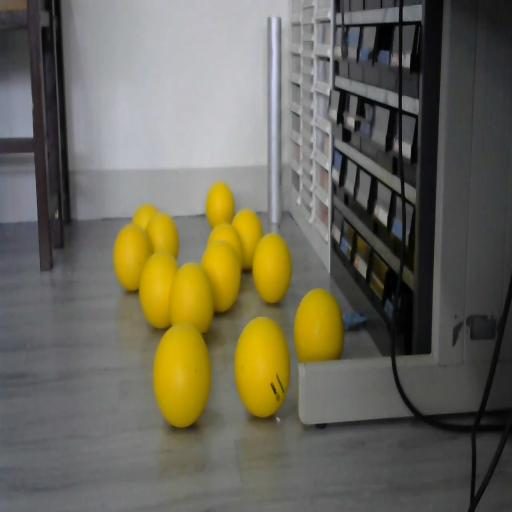FUEL: (152, 323, 211, 426), (234, 315, 292, 418), (294, 287, 344, 364), (168, 262, 215, 336), (139, 251, 179, 329), (200, 239, 242, 313), (252, 232, 293, 304), (113, 224, 151, 292), (232, 209, 264, 269), (206, 222, 243, 268), (146, 212, 180, 260), (206, 182, 234, 227), (133, 204, 159, 234)
